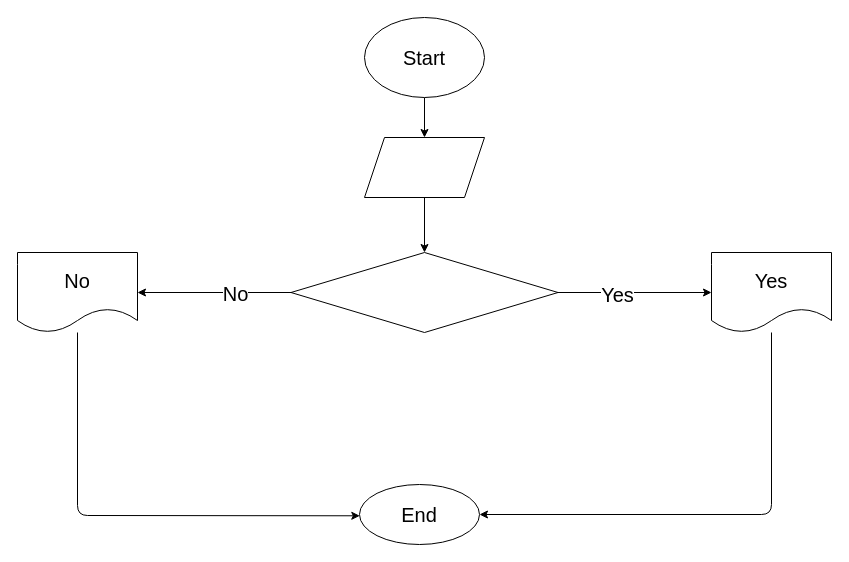
The diagram is 849 pixels wide and 562 high, and some of its shapes have lost their labels. Here are the shapes that lost their labels. From the top down, the centre of each, then its label:
At (424,167): "Number".
At (424,292): "number mod 2 == 0".
